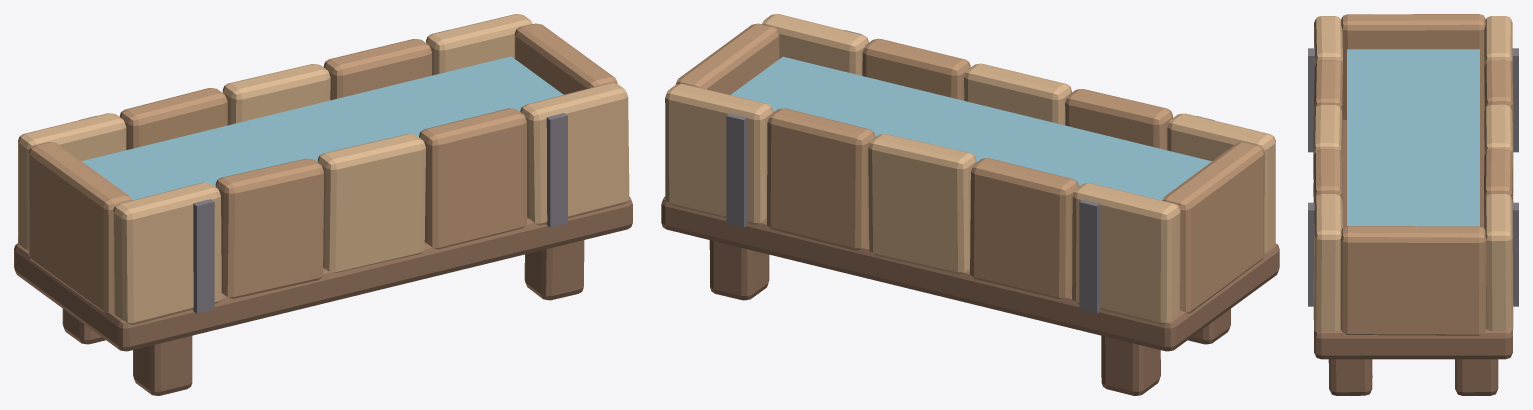
The model's file is Kit_Trough.fbx.
3 renders of one model, left to right at view 1: azimuth 30°, elevation 25°; view 2: azimuth 150°, elevation 25°; view 3: azimuth 270°, elevation 25°, orthographic. The views are drawn at different scales.
Parts seen in each view (by area): view 1: Kit_Trough; view 2: Kit_Trough; view 3: Kit_Trough.
Part boxes in pixels (x1=…): Kit_Trough: x1=14, y1=14, x2=632, y2=395; Kit_Trough: x1=661, y1=14, x2=1279, y2=395; Kit_Trough: x1=1308, y1=14, x2=1518, y2=395.
Bounding box in the file's own units: 1.6 × 0.6028 × 0.635.
